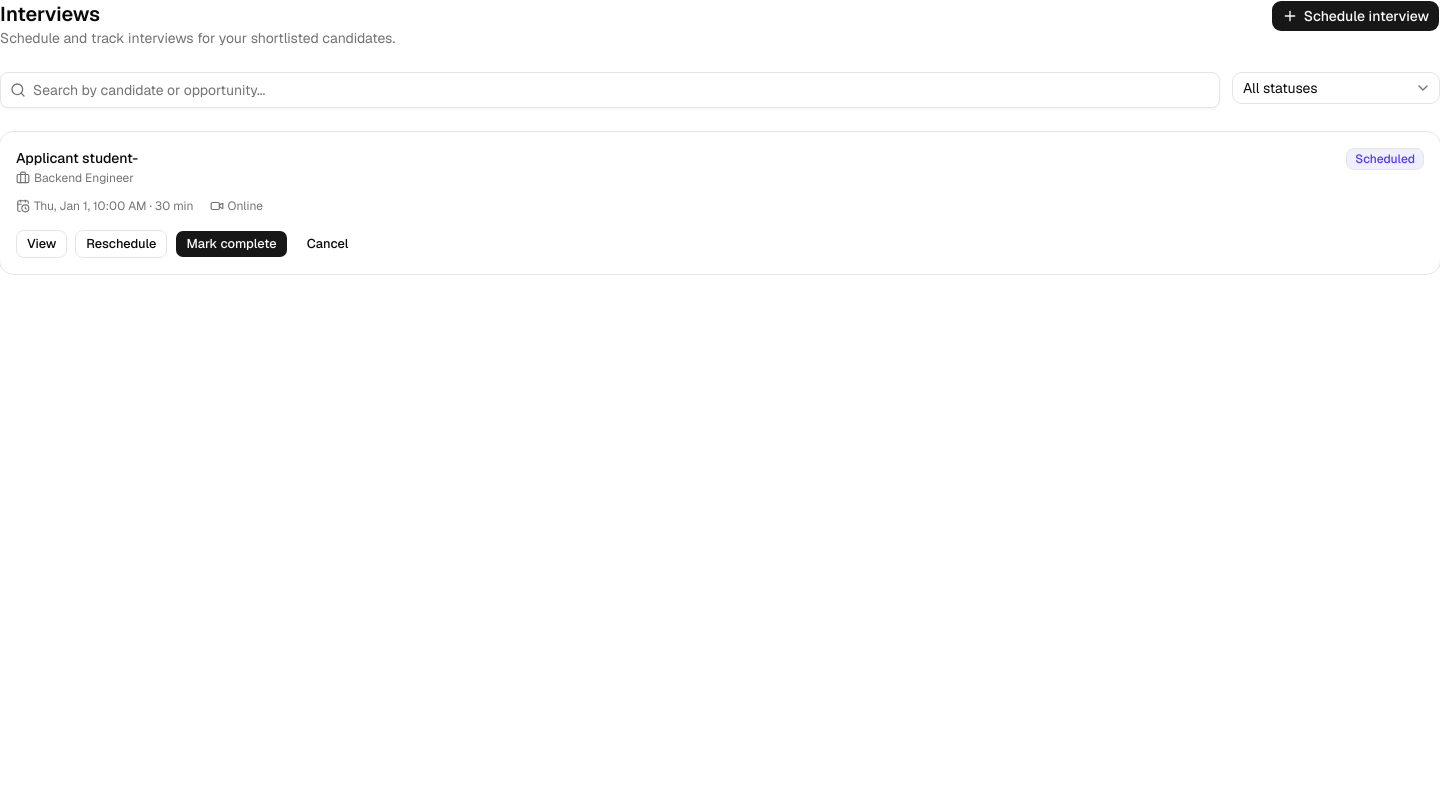
Test: InterviewsListView › runs the cancel lifecycle action through a confirmation
What coordinates should you click on to do the following:
click the button "Cancel"
I would click on:
 (328, 244)
Its box is left=296, top=230, right=359, bottom=258.
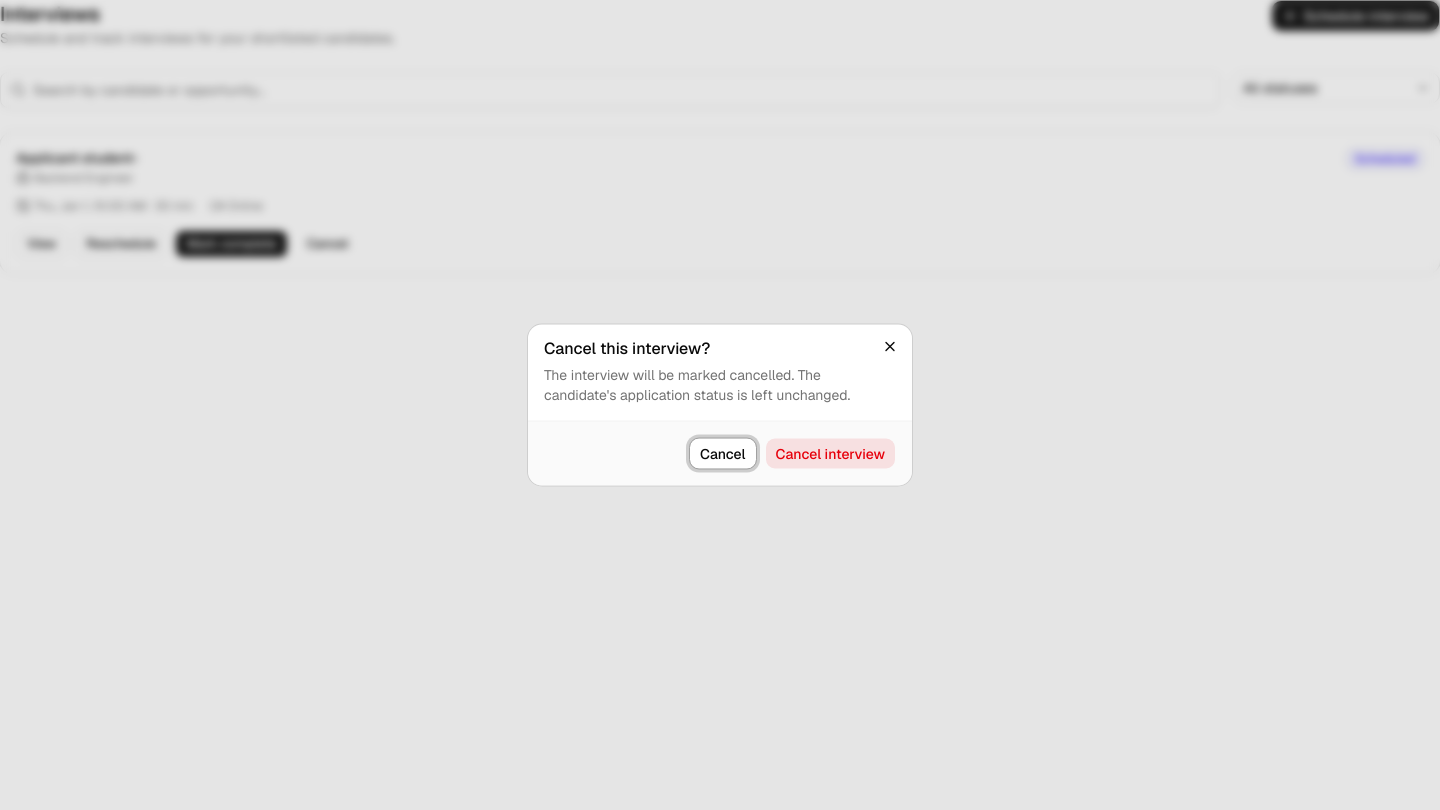
// confirmation dialog
What coordinates should you click on to do the following:
click the button "Cancel interview"
I would click on:
 (830, 454)
Its box is left=764, top=438, right=896, bottom=470.
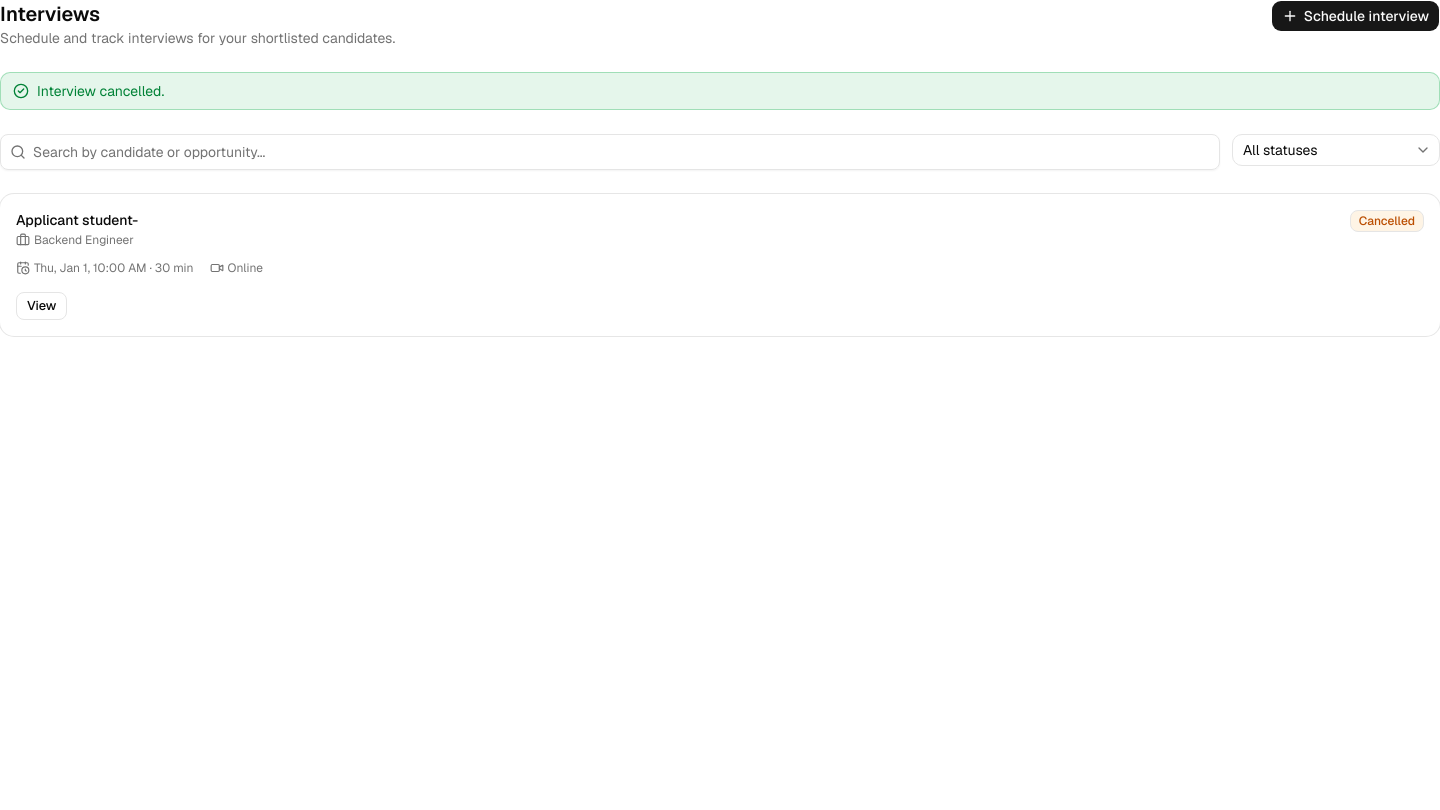
Expected: the text "Interview cancelled." is shown, left=37, top=81, right=164, bottom=101
